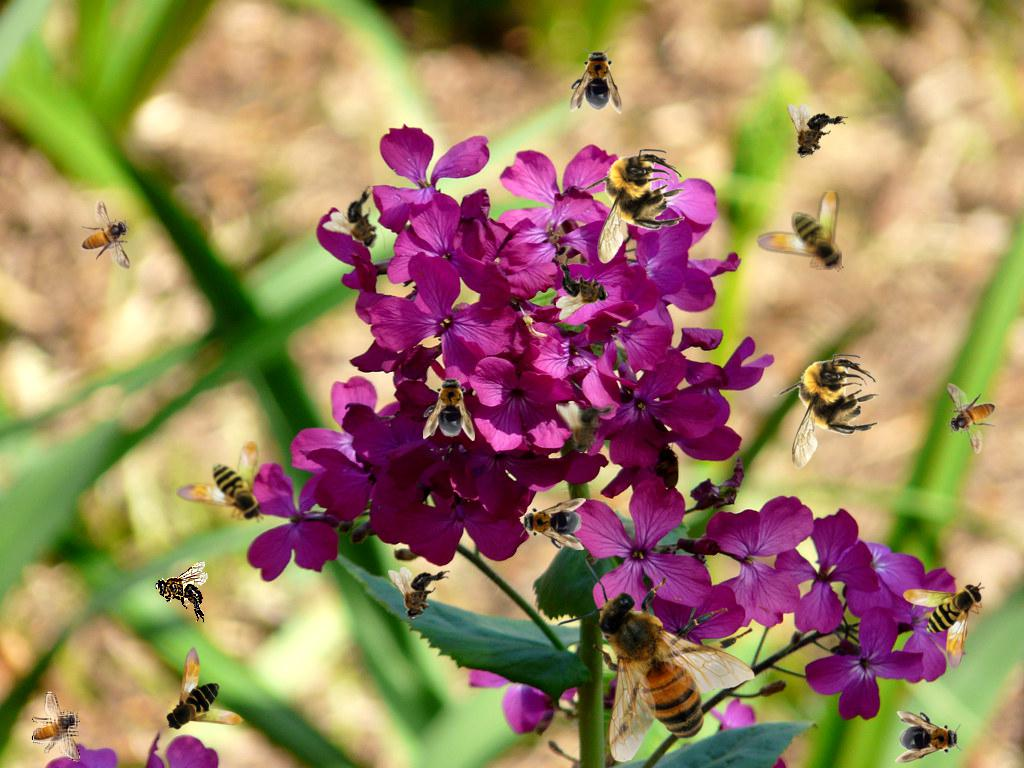Bee: (556, 559, 755, 763), (579, 149, 686, 264), (773, 354, 880, 469), (162, 645, 244, 733), (903, 582, 985, 670), (756, 190, 844, 272), (176, 441, 264, 523), (319, 182, 402, 264), (777, 100, 850, 166), (946, 383, 996, 454), (31, 691, 81, 762), (81, 199, 131, 270), (570, 46, 622, 114), (518, 498, 586, 550), (895, 711, 963, 763), (423, 373, 475, 441), (556, 258, 609, 320), (556, 401, 618, 454), (155, 561, 208, 623), (388, 567, 450, 620)
